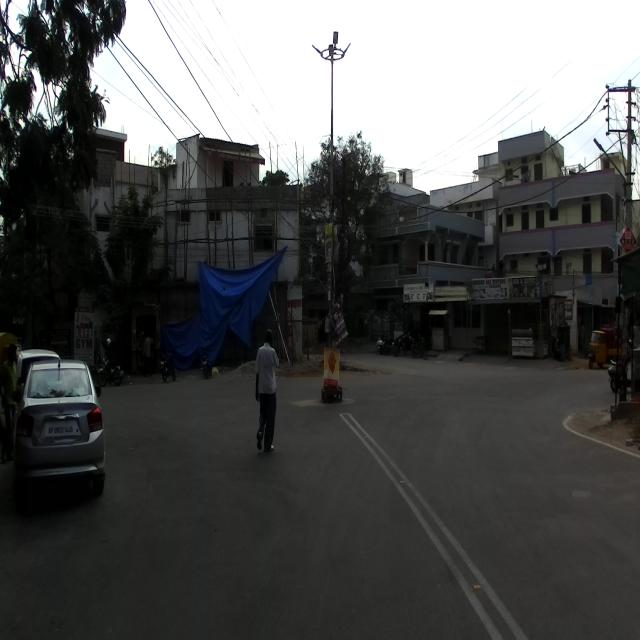car ahead at: (20, 362, 104, 499)
person ahead at: (249, 331, 283, 461)
